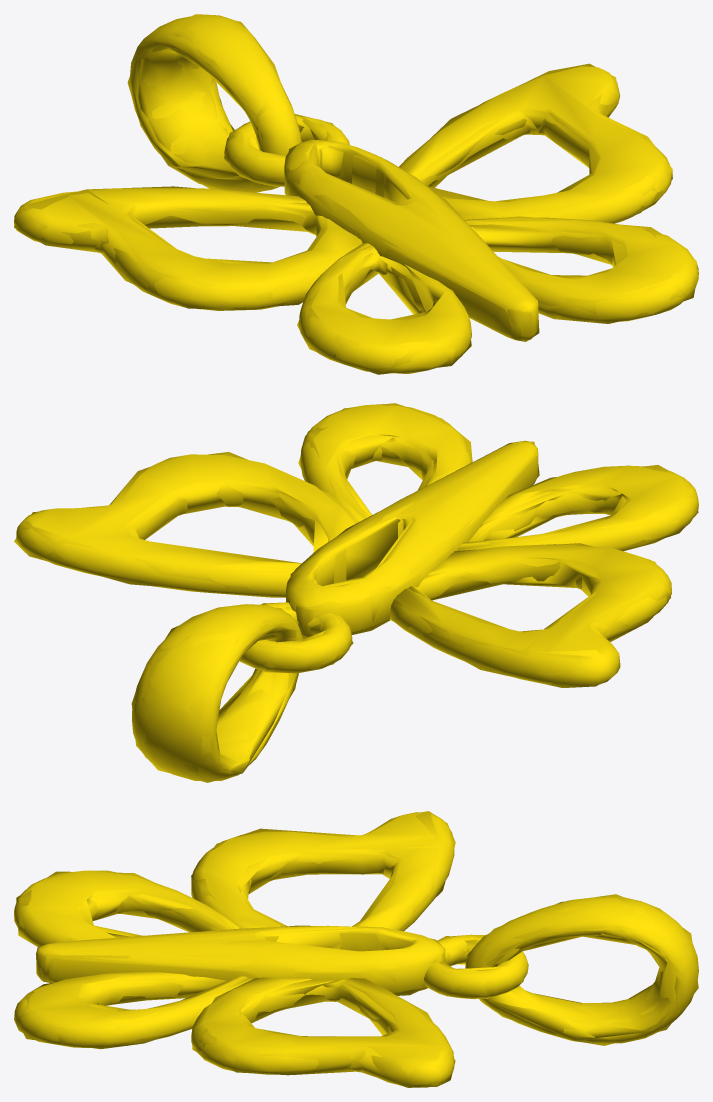
The model's file is GPN-SAD0003046.glb.
3 renders of one model, top to bottom at view 1: azimuth 30°, elevation 25°; view 2: azimuth 150°, elevation 25°; view 3: azimuth 270°, elevation 25°, orthographic. The views are drawn at different scales.
Visible parts, largest first — view 1: highPolyMesh, lowPolyMesh; view 2: highPolyMesh, lowPolyMesh; view 3: highPolyMesh, lowPolyMesh.
Boxes of the visible parts, x1=… form: highPolyMesh: x1=14, y1=14, x2=698, y2=373; lowPolyMesh: x1=14, y1=14, x2=698, y2=374; highPolyMesh: x1=16, y1=404, x2=698, y2=780; lowPolyMesh: x1=14, y1=403, x2=698, y2=782; highPolyMesh: x1=14, y1=812, x2=698, y2=1087; lowPolyMesh: x1=16, y1=811, x2=698, y2=1087.
Bounding box in the file's own units: 0.0196 × 0.00472 × 0.0217.
